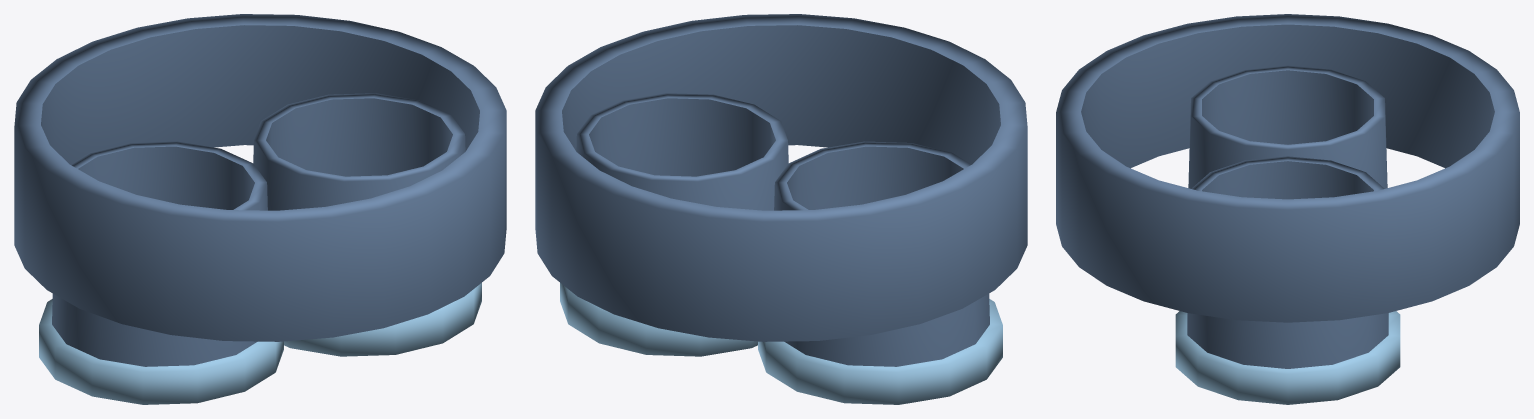
The model's file is denim_cutoffs.glb.
3 renders of one model, left to right at view 1: azimuth 30°, elevation 25°; view 2: azimuth 150°, elevation 25°; view 3: azimuth 270°, elevation 25°, orthographic. The views are drawn at different scales.
Parts seen in each view (by area): view 1: denim_cutoffs_Body, denim_cutoffs_LegL, denim_cutoffs_LegR; view 2: denim_cutoffs_Body, denim_cutoffs_LegL, denim_cutoffs_LegR; view 3: denim_cutoffs_Body, denim_cutoffs_LegR, denim_cutoffs_LegL.
Boxes of the visible parts, <box> form: denim_cutoffs_Body: <box>14,14,506,341</box>; denim_cutoffs_LegL: <box>39,141,283,404</box>; denim_cutoffs_LegR: <box>253,93,481,356</box>; denim_cutoffs_Body: <box>535,14,1027,341</box>; denim_cutoffs_LegL: <box>758,141,1002,404</box>; denim_cutoffs_LegR: <box>560,93,788,356</box>; denim_cutoffs_Body: <box>1056,14,1519,322</box>; denim_cutoffs_LegR: <box>1175,156,1400,404</box>; denim_cutoffs_LegL: <box>1188,65,1387,188</box>.
Bounding box in the file's own units: 0.41 × 0.194 × 0.41.
